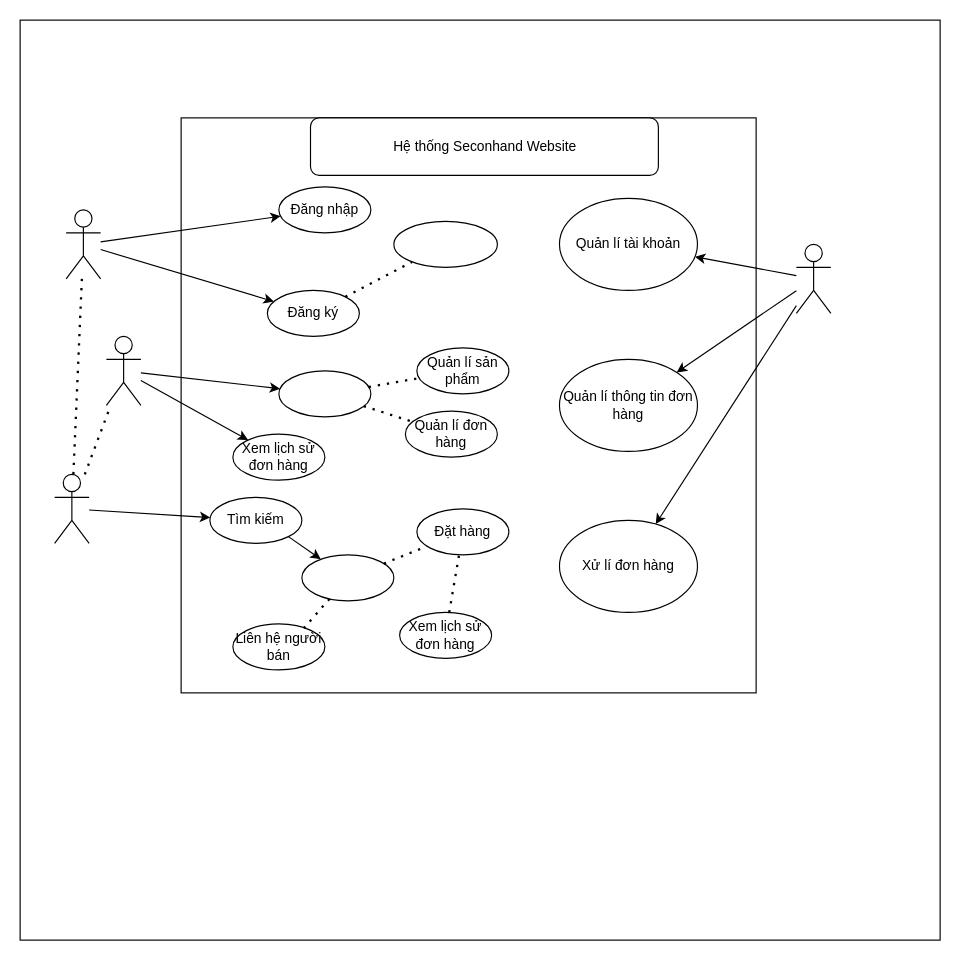
Some shapes in this 960 by 966 pixel diagram are drawn without their labels. Each missing label, with the box of its shape:
admin: (795, 243, 831, 313)
Người bán: (105, 335, 141, 405)
Người mua: (53, 473, 89, 543)
user: (65, 209, 101, 279)
Xem sản phẩm: (301, 554, 394, 601)
Đăng bán sản phẩm: (278, 370, 371, 417)
Đăng ký thành người bán: (393, 220, 497, 267)
